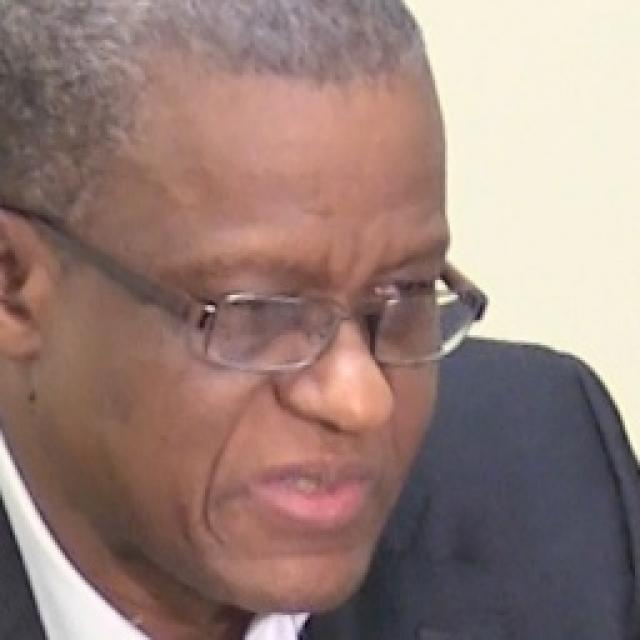glasses: (25, 200, 493, 378)
